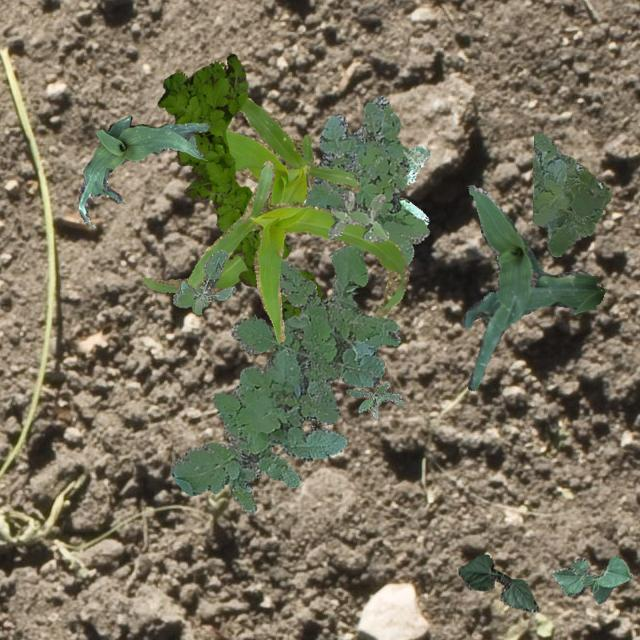crop: (140, 96, 358, 292), (186, 160, 408, 342), (460, 183, 604, 390), (78, 115, 208, 228), (458, 554, 538, 610), (550, 554, 632, 602)
weed: (170, 243, 400, 512), (156, 52, 320, 318), (302, 94, 428, 266), (532, 132, 612, 255), (172, 248, 235, 314), (327, 188, 388, 240), (398, 144, 428, 223), (344, 381, 402, 418)
